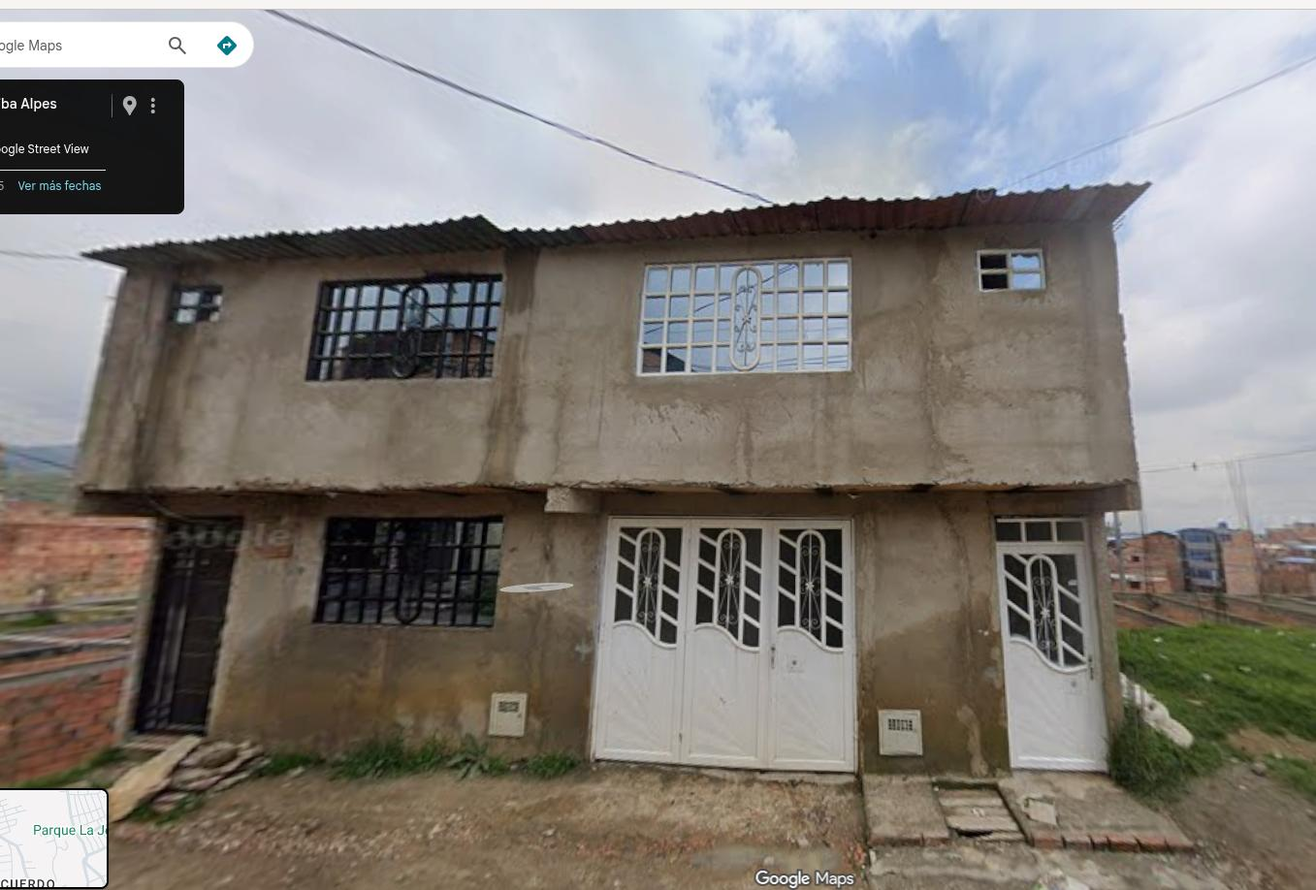casa: (75, 184, 1147, 773)
